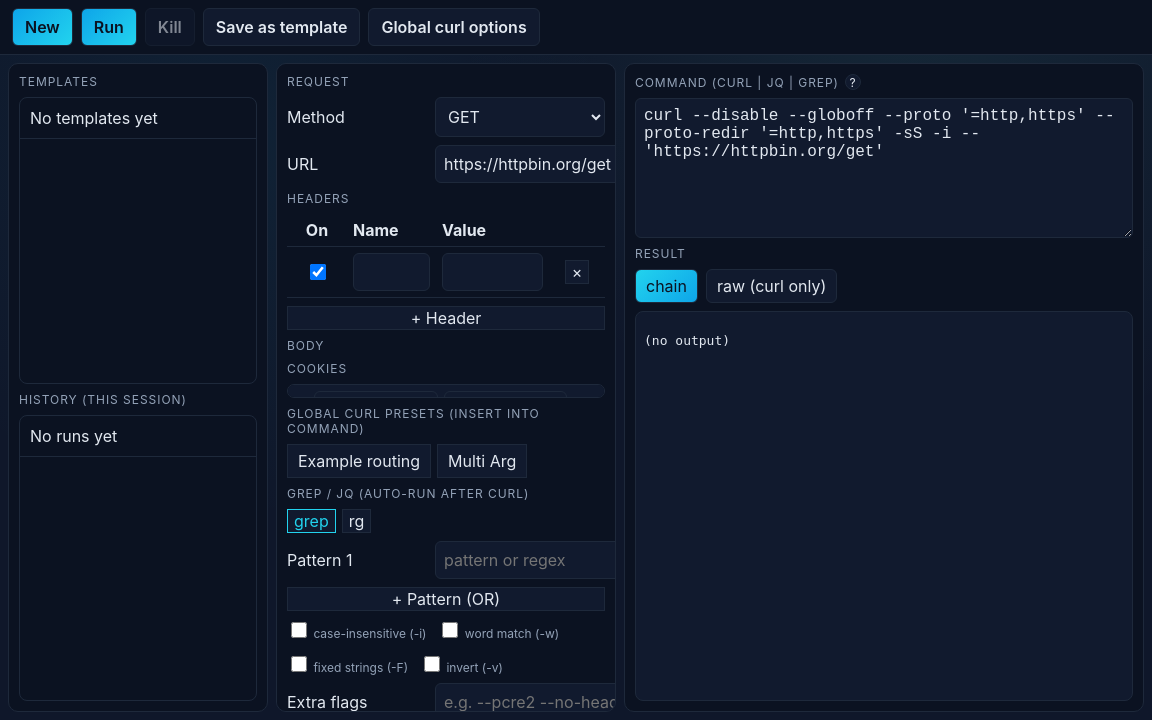
Test: request execution regressions › reports grep no-match as an ordinary outcome
The image size is (1152, 720).
expect the button "Example routing" is shown: met, box [287,444,431,478]
Type "absent" into the field with placeholder "pattern or regex" at (568, 560), box [435,541,701,579]
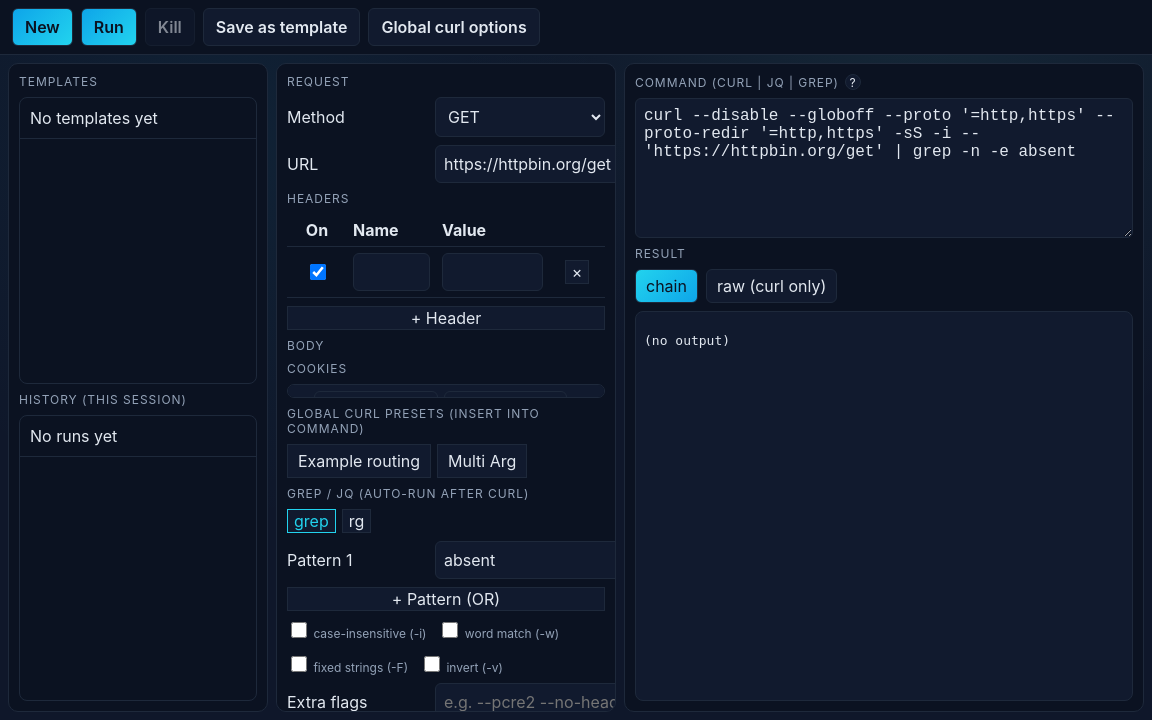
Click the button "Run" at (109, 27), box [81,8,137,46]
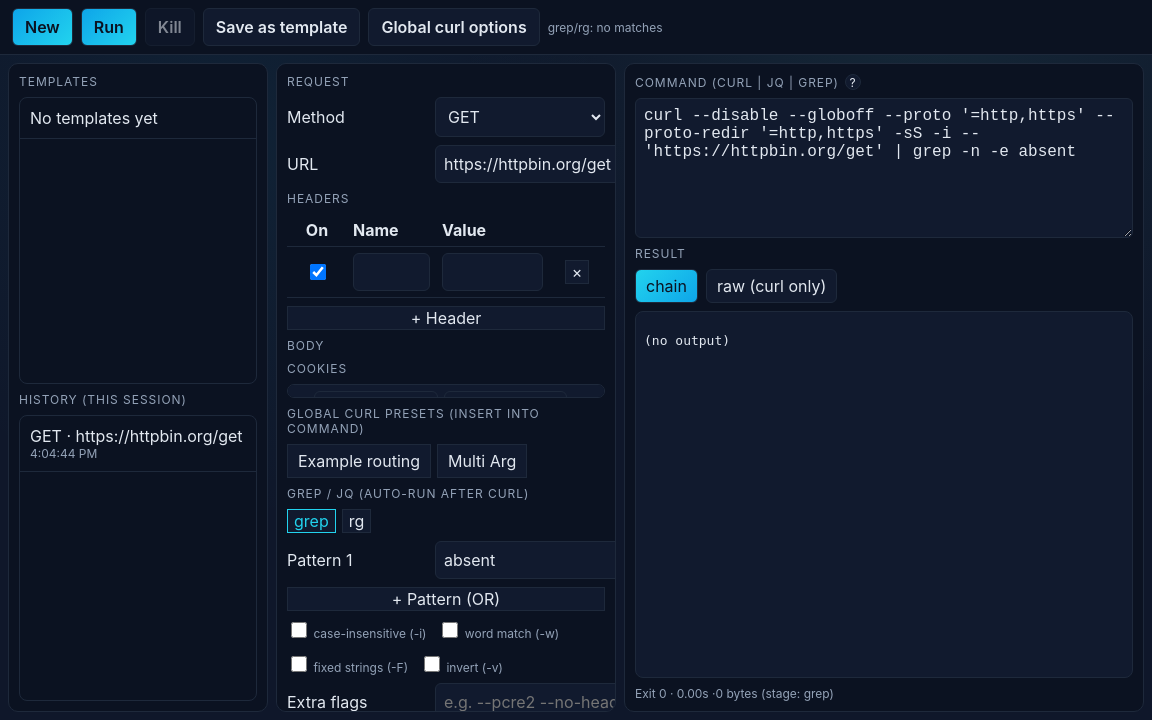
expect the text "grep/rg: no matches" is shown: met, box [548,20,663,34]
